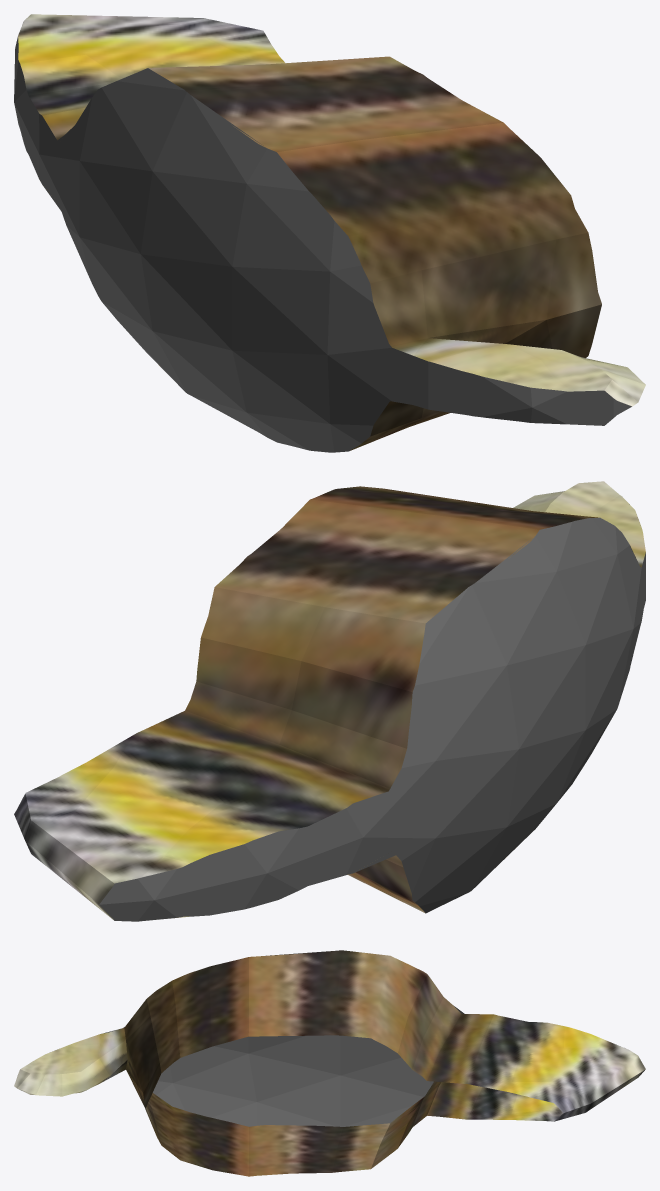
Rendered from link_10_composite.obj.
3 renders of one model, top to bottom at view 1: azimuth 30°, elevation 25°; view 2: azimuth 150°, elevation 25°; view 3: azimuth 270°, elevation 25°, orthographic. The views are drawn at different scales.
Bounding box in the file's own units: 0.00126 × 0.00118 × 0.00382.
Materials: 1 (1 with a texture image).
